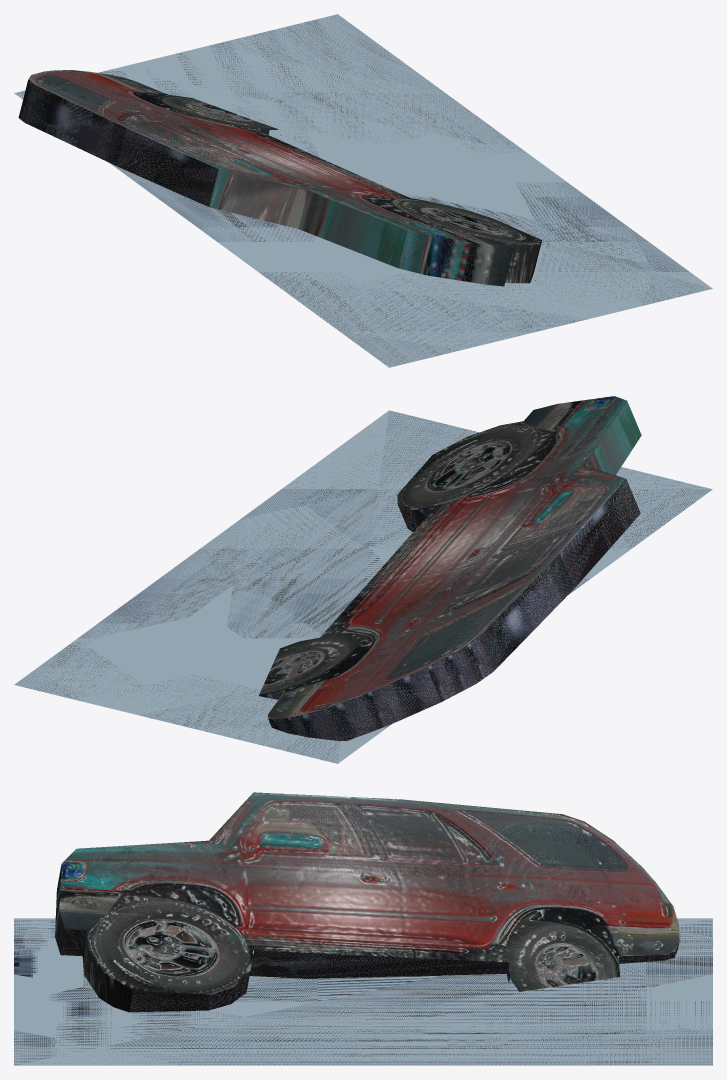
Rendered from New Red Car With Water Surface.fbx.
3 views of the same model, one above another, from view 1: azimuth 30°, elevation 25°; view 2: azimuth 150°, elevation 25°; view 3: azimuth 270°, elevation 25° (orthographic). The views are drawn at different scales.
Parts seen in each view (by area): view 1: Model; view 2: Model; view 3: Model.
Part boxes in pixels (left/top/right/bottom): Model: left=14, top=14, right=712, bottom=367; Model: left=14, top=396, right=712, bottom=763; Model: left=14, top=792, right=712, bottom=1065.
Bounding box in the file's own units: 278 × 77.11 × 455.
